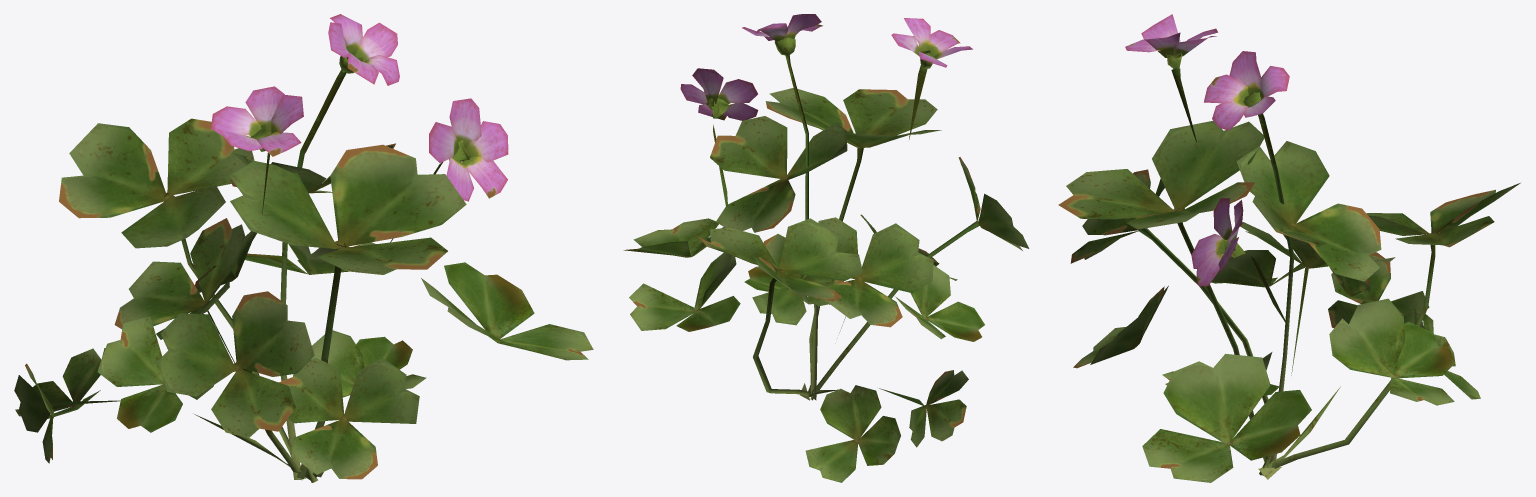
Rendered from plant_shrub_sorrel_01.glb.
3 views of the same model, side by side, from view 1: azimuth 30°, elevation 25°; view 2: azimuth 150°, elevation 25°; view 3: azimuth 270°, elevation 25° (orthographic). The views are drawn at different scales.
Visible parts, largest first — view 1: sorrelA, sorrelB; view 2: sorrelB, sorrelA; view 3: sorrelB, sorrelA.
Part boxes in pixels (box(x1,y1,x2,y2)): sorrelA: box(59, 14, 466, 480); sorrelB: box(14, 86, 593, 482); sorrelB: box(623, 18, 984, 482); sorrelA: box(697, 14, 1029, 400); sorrelB: box(1073, 14, 1480, 482); sorrelA: box(1058, 51, 1520, 468).
Bounding box in the file's own units: 0.0609 × 0.0566 × 0.0553.
Materials: 1 (1 with a texture image).
